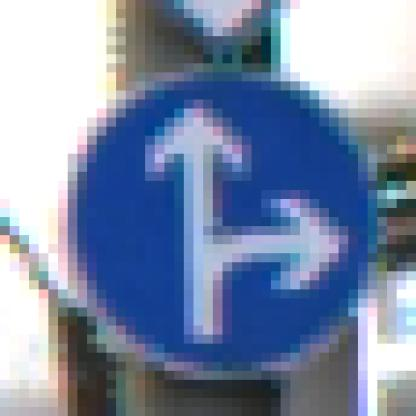Straight or Right: (59, 55, 369, 372)
